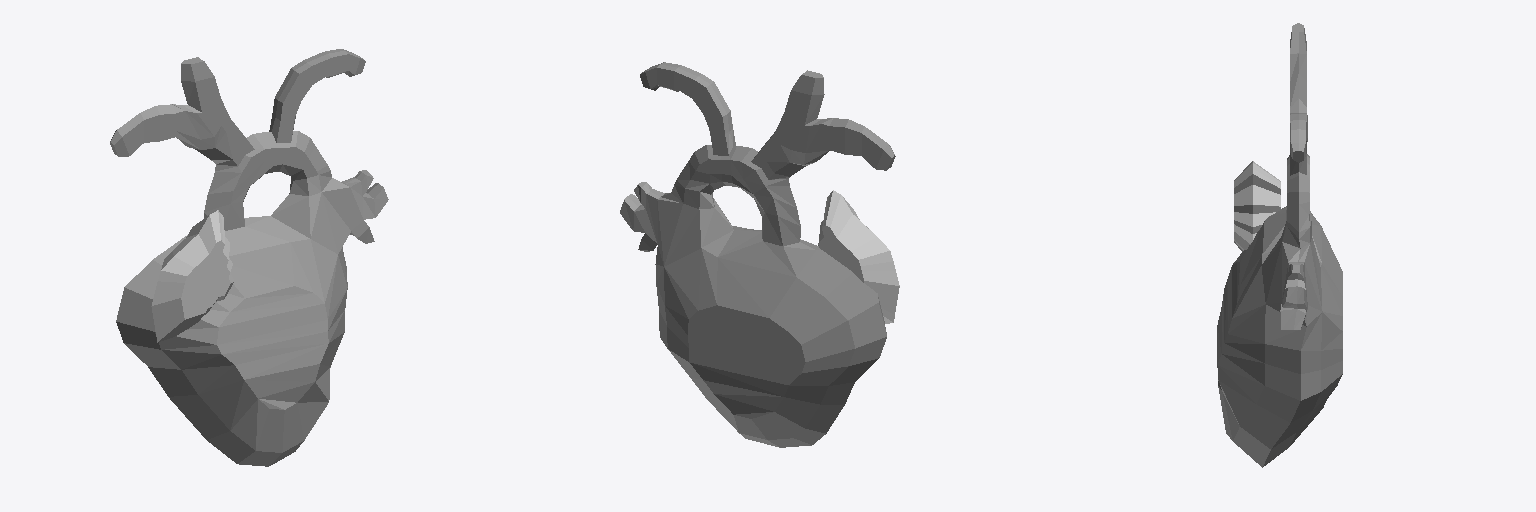
The model's file is BugHeart_1.obj.
The picture shows the model from 3 angles: view 1: azimuth 30°, elevation 25°; view 2: azimuth 150°, elevation 25°; view 3: azimuth 270°, elevation 25°; orthographic projection.
Parts seen in each view (by area): view 1: Cube, Cube.001; view 2: Cube, Cube.001; view 3: Cube, Cube.001.
Boxes of the visible parts, box(x1,y1,x2,y2) form: Cube: box(110, 49, 388, 466); Cube.001: box(151, 210, 233, 342); Cube: box(620, 62, 895, 447); Cube.001: box(818, 190, 899, 323); Cube: box(1217, 23, 1342, 467); Cube.001: box(1234, 161, 1280, 251).
Size of the model in its own units: 8.15 by 11.53 by 3.25.